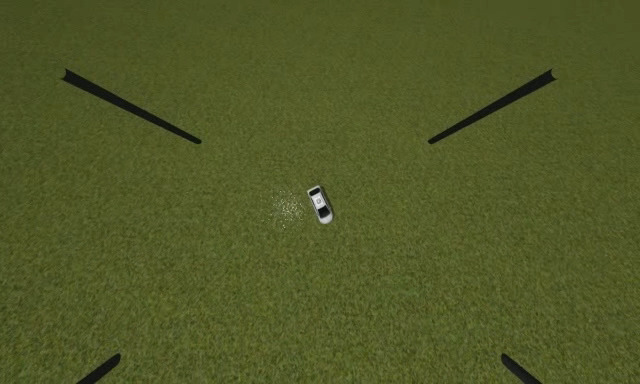Car: (307, 184, 334, 225)
Landing Pad: (314, 196, 323, 206)
